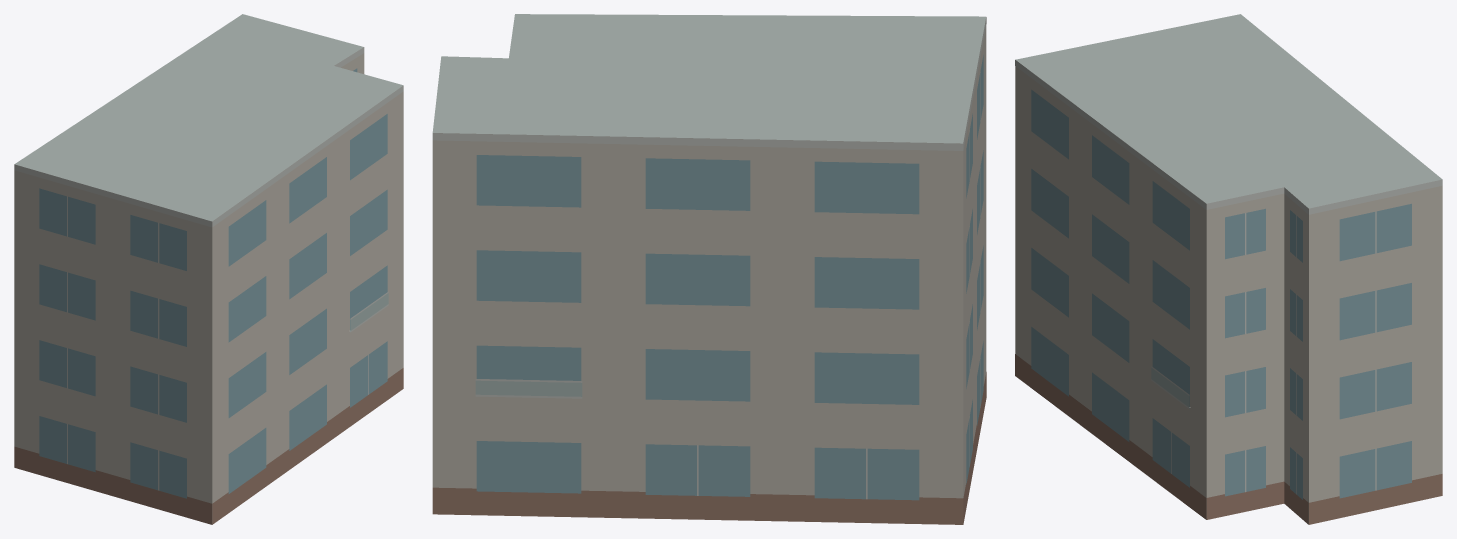
Rendered from survey-upis-32588500.glb.
3 views of the same model, side by side, from view 1: azimuth 30°, elevation 25°; view 2: azimuth 150°, elevation 25°; view 3: azimuth 270°, elevation 25° (orthographic). The views are drawn at different scales.
Parts seen in each view (by area): view 1: survey-upis-32588500.tmp; view 2: survey-upis-32588500.tmp; view 3: survey-upis-32588500.tmp.
Boxes of the visible parts, box(x1,y1,x2,y2) form: survey-upis-32588500.tmp: box(14, 14, 403, 524); survey-upis-32588500.tmp: box(432, 14, 986, 524); survey-upis-32588500.tmp: box(1015, 14, 1442, 524).
Bounding box in the file's own units: 16.4 × 12.42 × 15.22.
